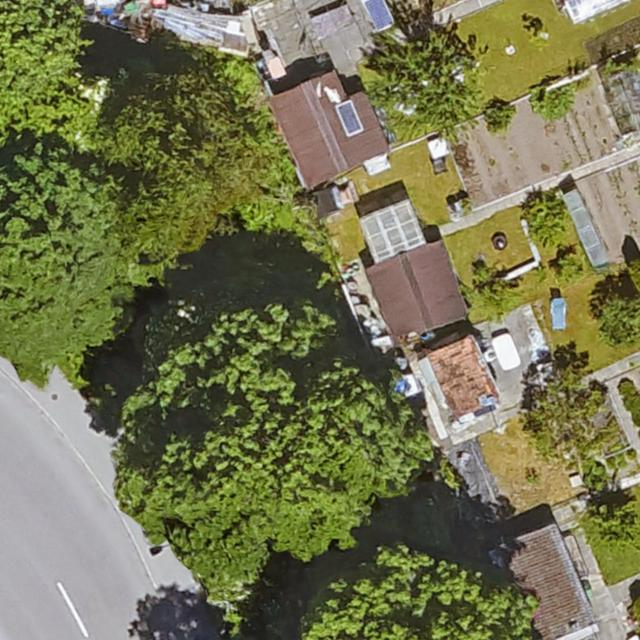tree: (114, 301, 429, 594), (0, 143, 170, 386), (104, 67, 280, 262), (310, 546, 542, 640), (0, 0, 98, 149), (360, 20, 482, 134), (527, 372, 604, 459), (589, 493, 640, 547), (522, 189, 566, 241), (602, 295, 640, 344), (533, 79, 573, 115), (486, 98, 517, 133), (558, 249, 588, 281)
